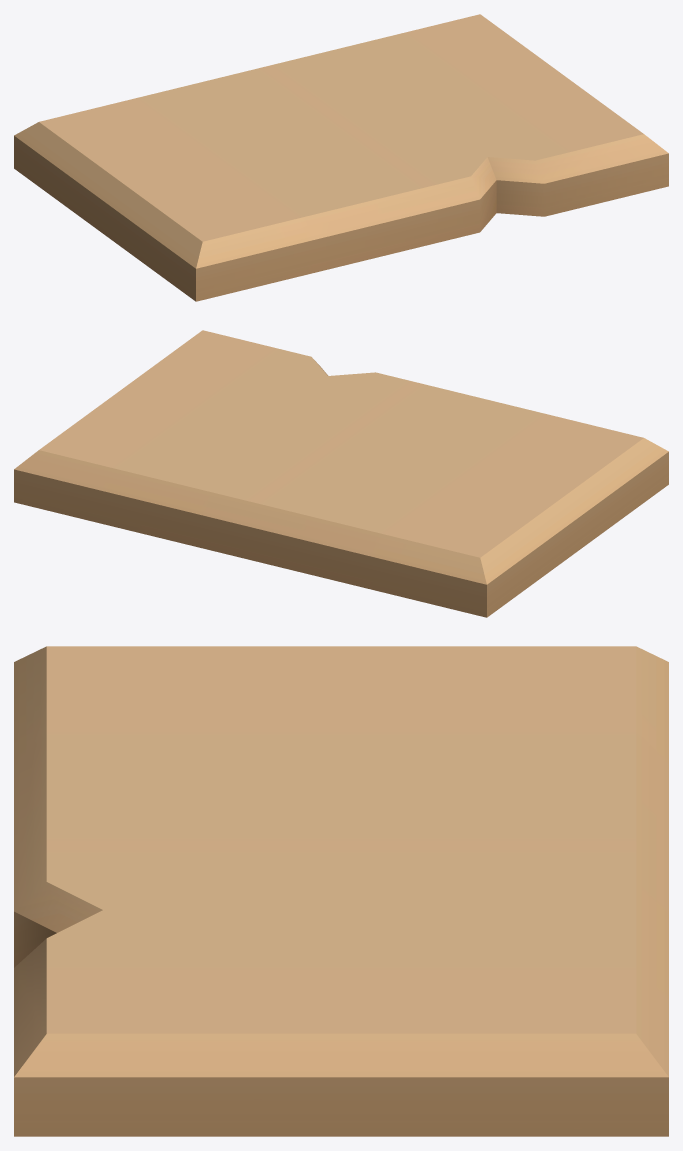
File: cuttingboard.glb
3 views of the same model, one above another, from view 1: azimuth 30°, elevation 25°; view 2: azimuth 150°, elevation 25°; view 3: azimuth 270°, elevation 25° (orthographic). The views are drawn at different scales.
Visible parts, largest first — view 1: cuttingboard; view 2: cuttingboard; view 3: cuttingboard.
Boxes of the visible parts, x1=… form: cuttingboard: x1=14, y1=14, x2=668, y2=301; cuttingboard: x1=14, y1=330, x2=668, y2=617; cuttingboard: x1=14, y1=646, x2=668, y2=1136.
Size of the model in its own units: 1.5 by 0.15 by 1.
1 material, 1 textured.
